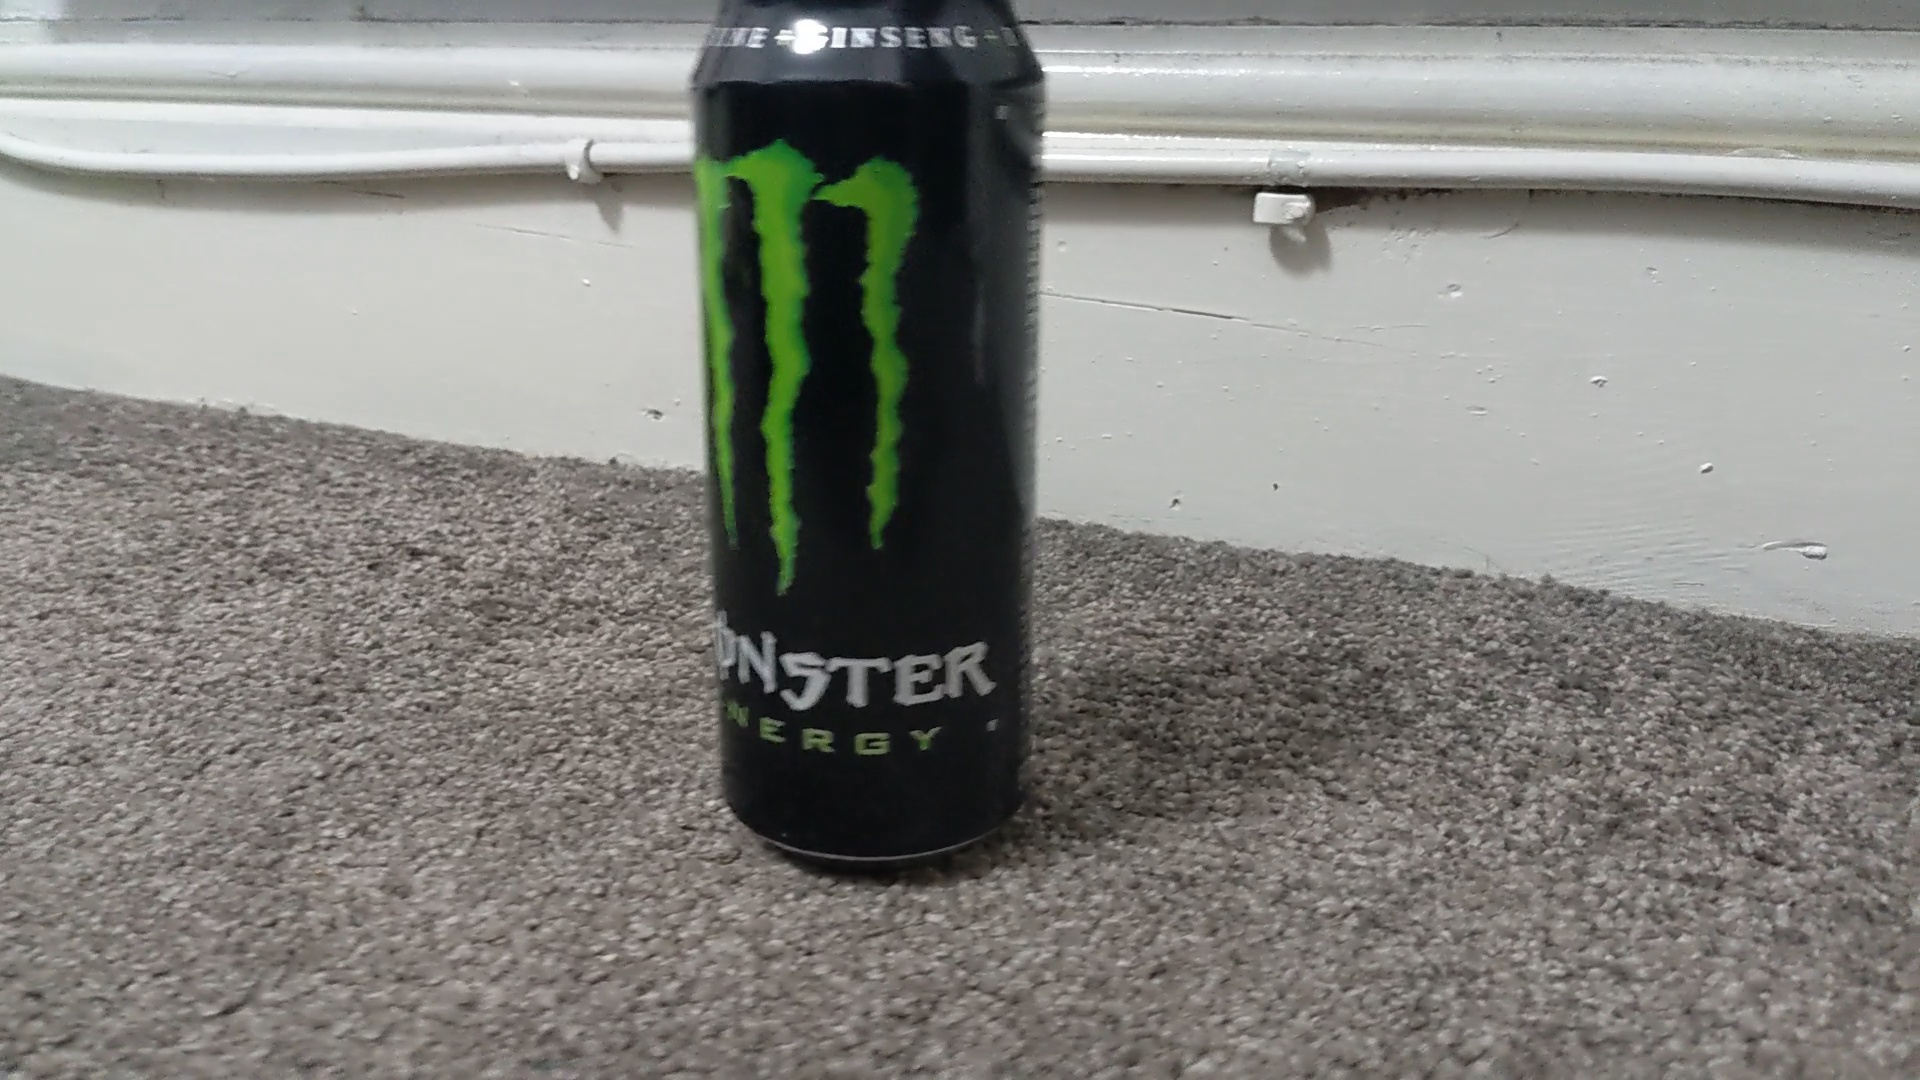monster-original: (688, 1, 1051, 866)
